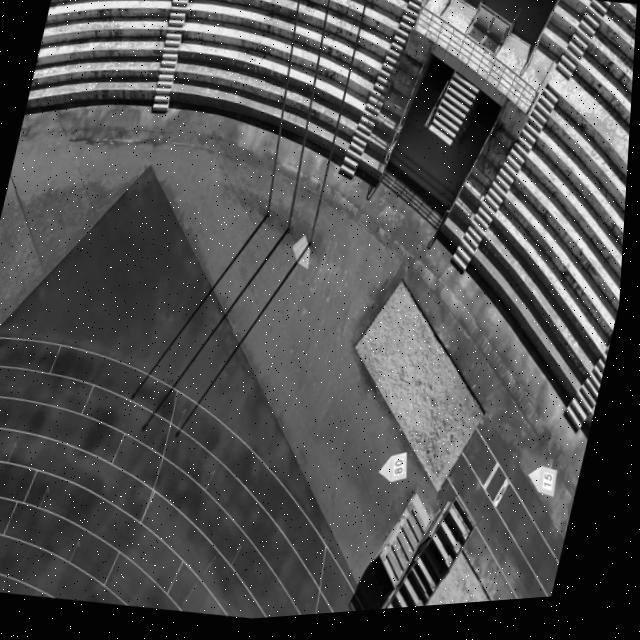board: (534, 474, 563, 506), (384, 459, 412, 489), (295, 239, 313, 275)
